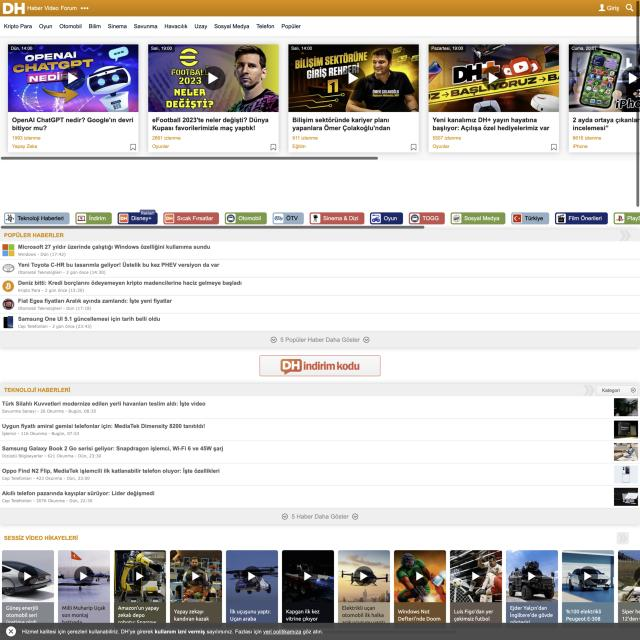logo: (1, 2, 26, 15)
navigation: (3, 23, 303, 30), (27, 4, 90, 12)
video: (148, 44, 279, 113), (428, 43, 558, 112), (287, 44, 418, 112), (8, 44, 138, 112), (226, 550, 278, 604), (282, 550, 334, 604), (2, 550, 55, 602), (58, 550, 110, 603), (394, 549, 446, 602), (449, 550, 502, 602), (114, 550, 166, 602), (170, 550, 222, 602), (338, 550, 390, 602), (506, 550, 558, 602), (562, 550, 614, 602)
